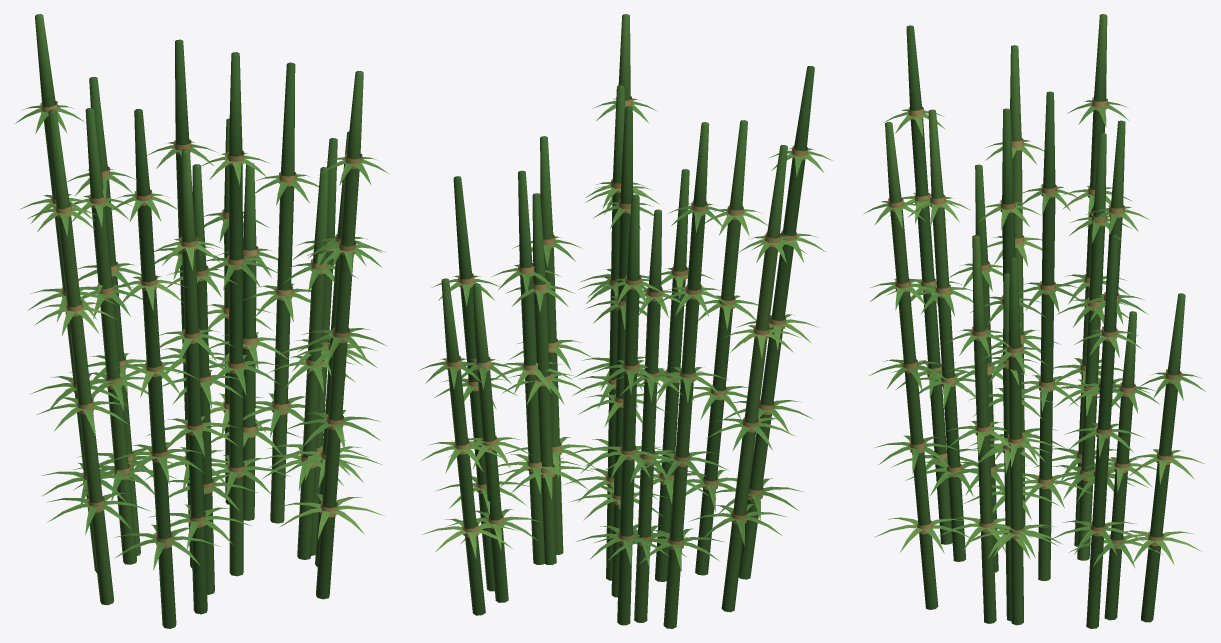
File: PLN_Horsetails_Small.fbx
3 views of the same model, side by side, from view 1: azimuth 30°, elevation 25°; view 2: azimuth 150°, elevation 25°; view 3: azimuth 270°, elevation 25° (orthographic). The views are drawn at different scales.
Parts seen in each view (by area): view 1: PLN_Horsetails_Small; view 2: PLN_Horsetails_Small; view 3: PLN_Horsetails_Small.
Boxes of the visible parts, x1,y1,x2,y2 form: PLN_Horsetails_Small: (15,14,388,628); PLN_Horsetails_Small: (419,14,832,628); PLN_Horsetails_Small: (864,14,1205,628).
Bounding box in the file's own units: 0.439 × 0.6882 × 0.4214.
